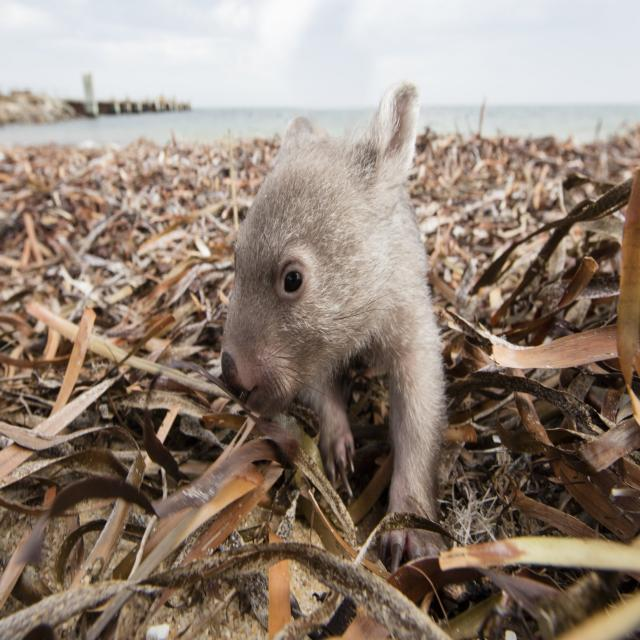Wombat: (218, 80, 460, 538)
